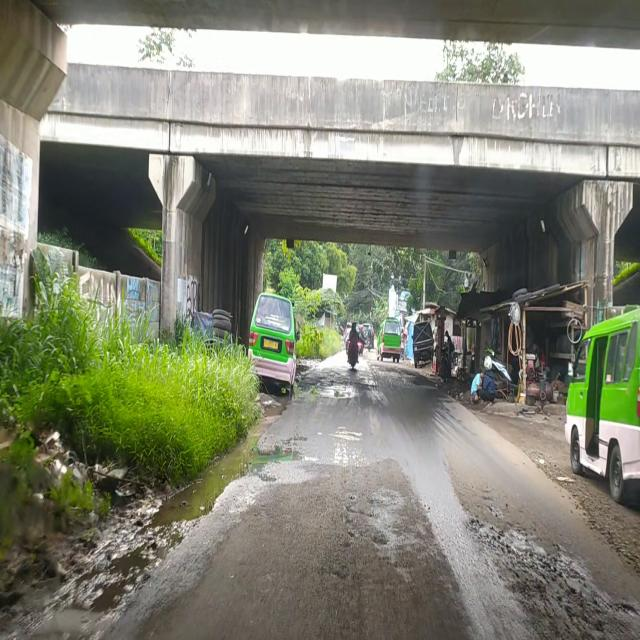Sewer Cover: (342, 518, 389, 547), (343, 497, 384, 520)
